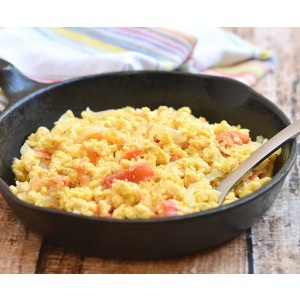egg_brain food: (26, 100, 240, 208)
